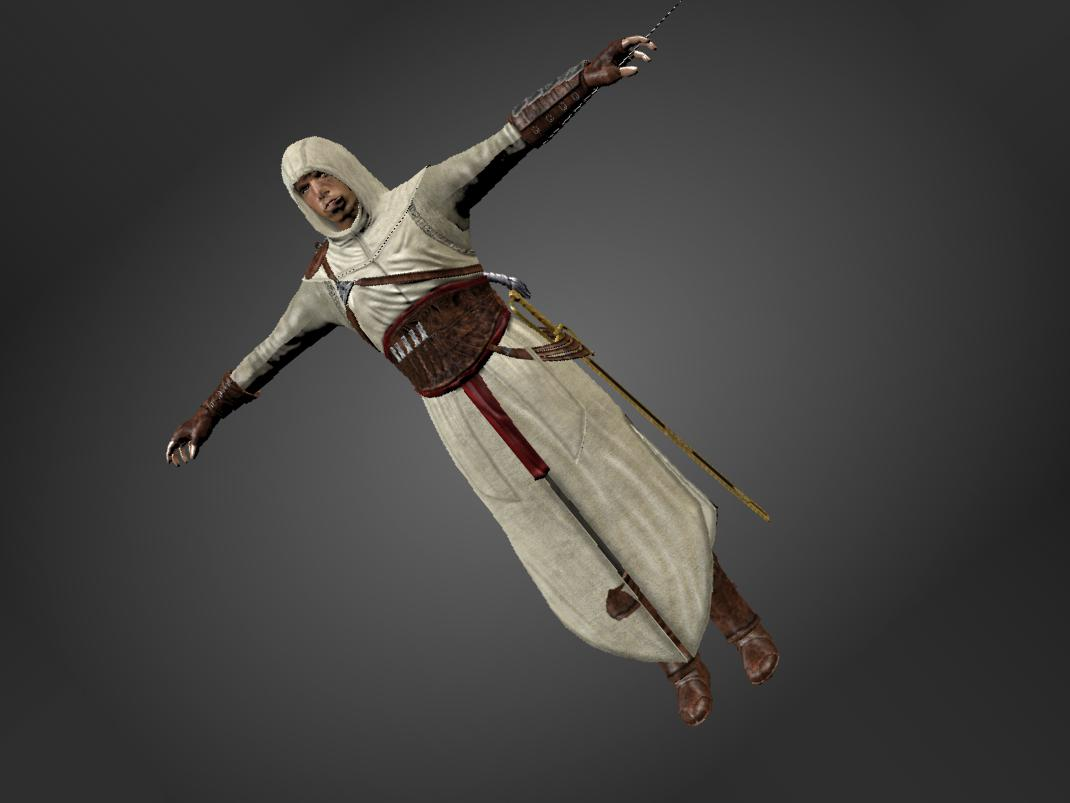clip: (592, 580, 642, 623)
